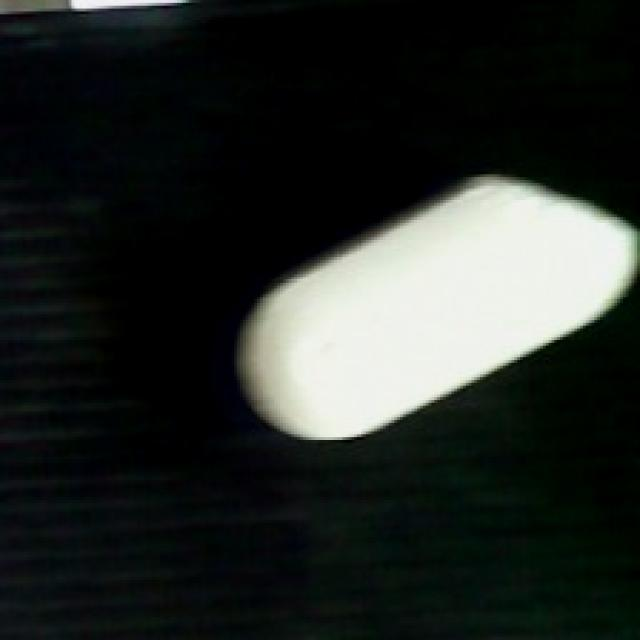defected: (227, 169, 639, 443)
